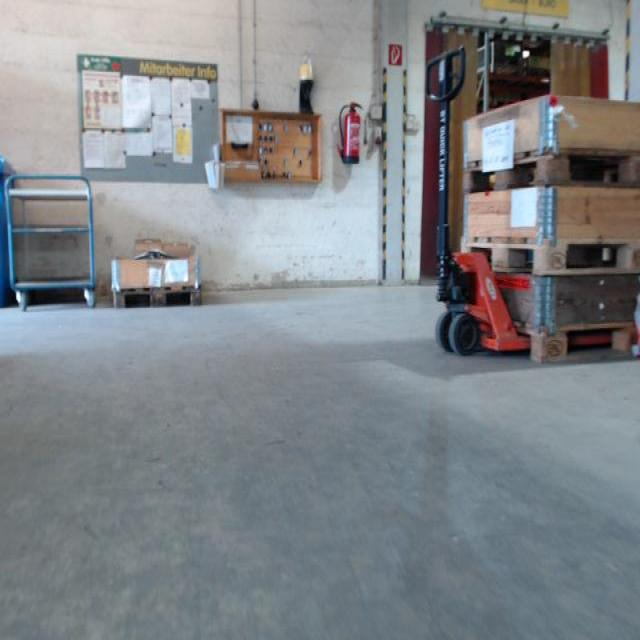pallet: (462, 146, 640, 199), (459, 232, 640, 280), (511, 317, 640, 365), (113, 282, 203, 311)
pallet_truck: (417, 32, 633, 355)
